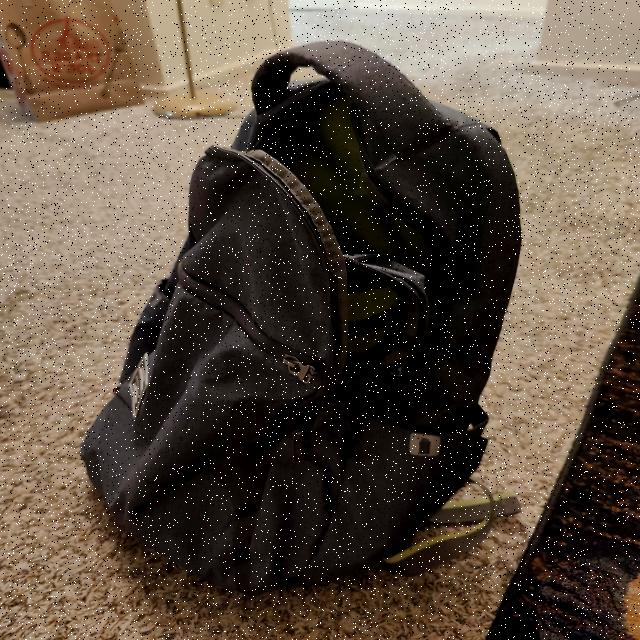bag: (98, 42, 522, 574)
